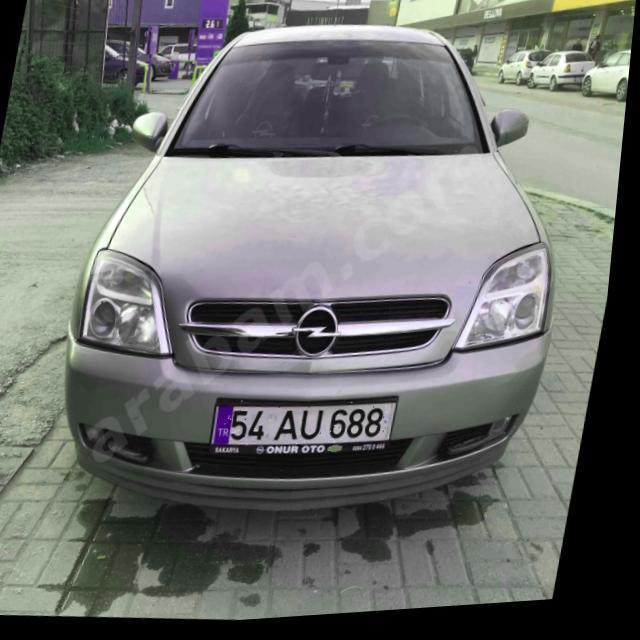license_plate: (217, 391, 407, 464)
